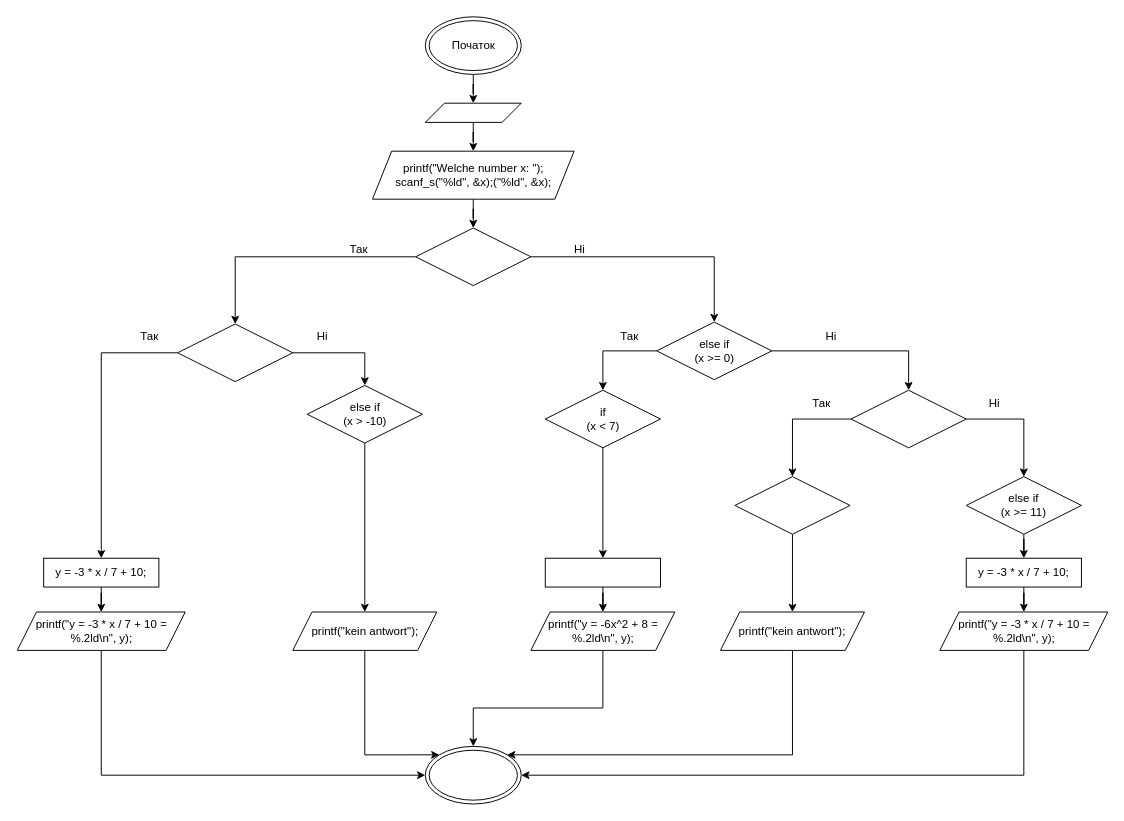
Image size: 1124x821. Some labels were removed from this diagram. Here are the shapes that lost their labels. From the top down, the centre of each, then its label:
point 472,112: int x, y;
point 473,256: if (x < 0)
point 235,352: if (x <= 10)
point 908,418: else if (x >= 7)
point 792,505: if (x < 11)
point 602,572: y = -6 * x * x + 8;
point 472,774: Кінець return 0;
